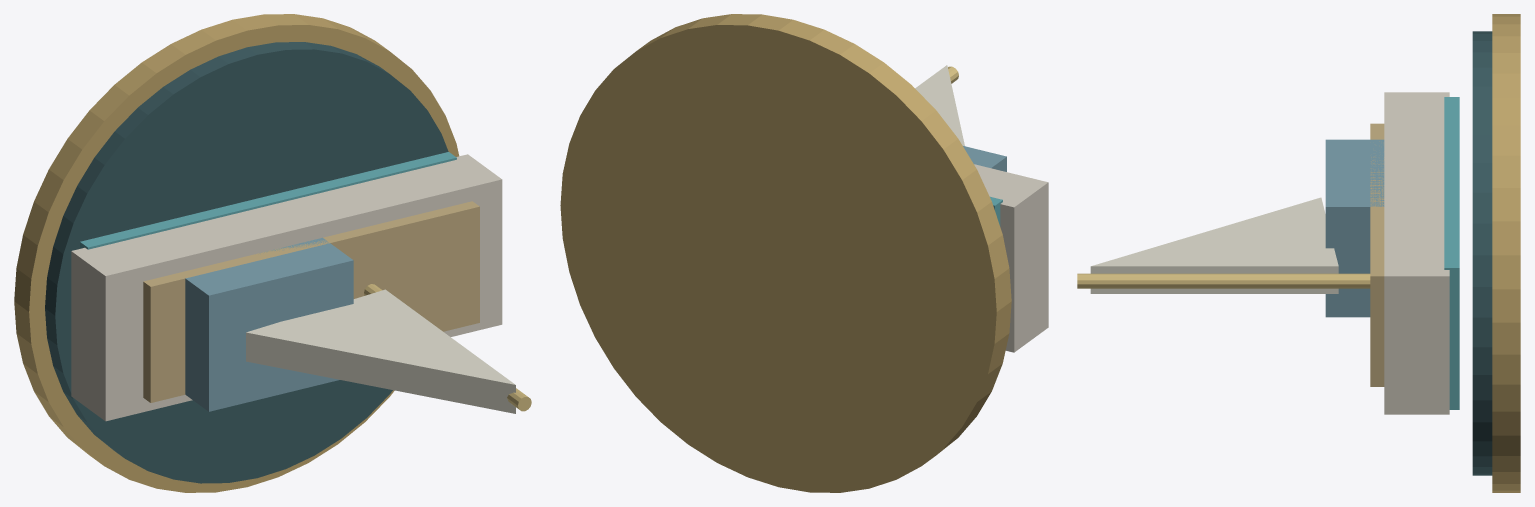
File: pearl_yacht.glb
3 renders of one model, left to right at view 1: azimuth 30°, elevation 25°; view 2: azimuth 150°, elevation 25°; view 3: azimuth 270°, elevation 25°, orthographic. The views are drawn at different scales.
Parts seen in each view (by area): view 1: obsidian-plinth, hull, gold-plinth, deck, cabin, sail, waterline; view 2: gold-plinth, hull, sail, cabin; view 3: hull, gold-plinth, sail, obsidian-plinth, cabin, mast, waterline, deck.
Part boxes in pixels (left/top/right/bottom): obsidian-plinth: left=45, top=42, right=448, bottom=483; hull: left=71, top=154, right=502, bottom=421; gold-plinth: left=14, top=14, right=459, bottom=492; deck: left=143, top=201, right=479, bottom=402; cabin: left=185, top=237, right=353, bottom=411; sail: left=246, top=289, right=515, bottom=413; waterline: left=80, top=152, right=456, bottom=249; gold-plinth: left=560, top=14, right=1011, bottom=492; hull: left=974, top=164, right=1048, bottom=352; sail: left=915, top=65, right=964, bottom=145; cabin: left=963, top=146, right=1006, bottom=171; hull: left=1384, top=92, right=1449, bottom=414; gold-plinth: left=1492, top=14, right=1520, bottom=492; sail: left=1090, top=197, right=1338, bottom=293; obsidian-plinth: left=1472, top=31, right=1492, bottom=475; cabin: left=1325, top=139, right=1384, bottom=317; mast: left=1077, top=273, right=1370, bottom=288; waterline: left=1444, top=97, right=1459, bottom=409; deck: left=1370, top=123, right=1384, bottom=386.
Bounding box in the file's own units: 2.2 × 2.2 × 2.03.
